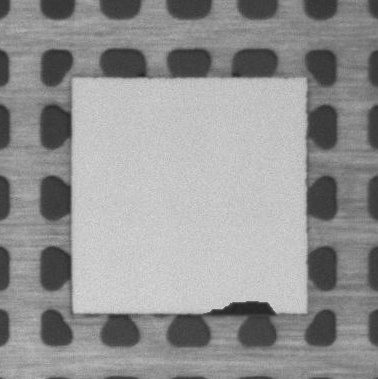DIE_BROKEN: (206, 299, 278, 319)
